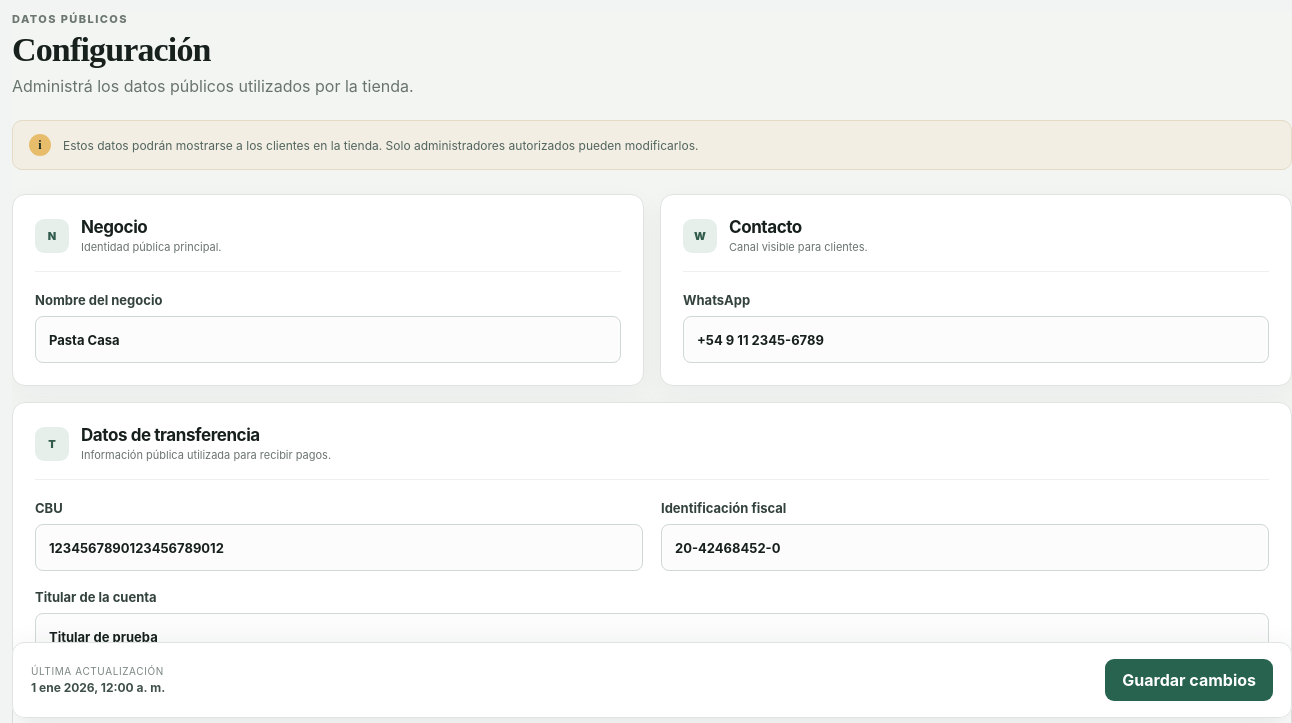
ConfigPage › muestra éxito y la nueva fecha después de una actualización válida
Replace the text in the field labelled "Nombre del negocio" with "Pasta Casa Nueva" at (328, 340), box [35,316,621,363]
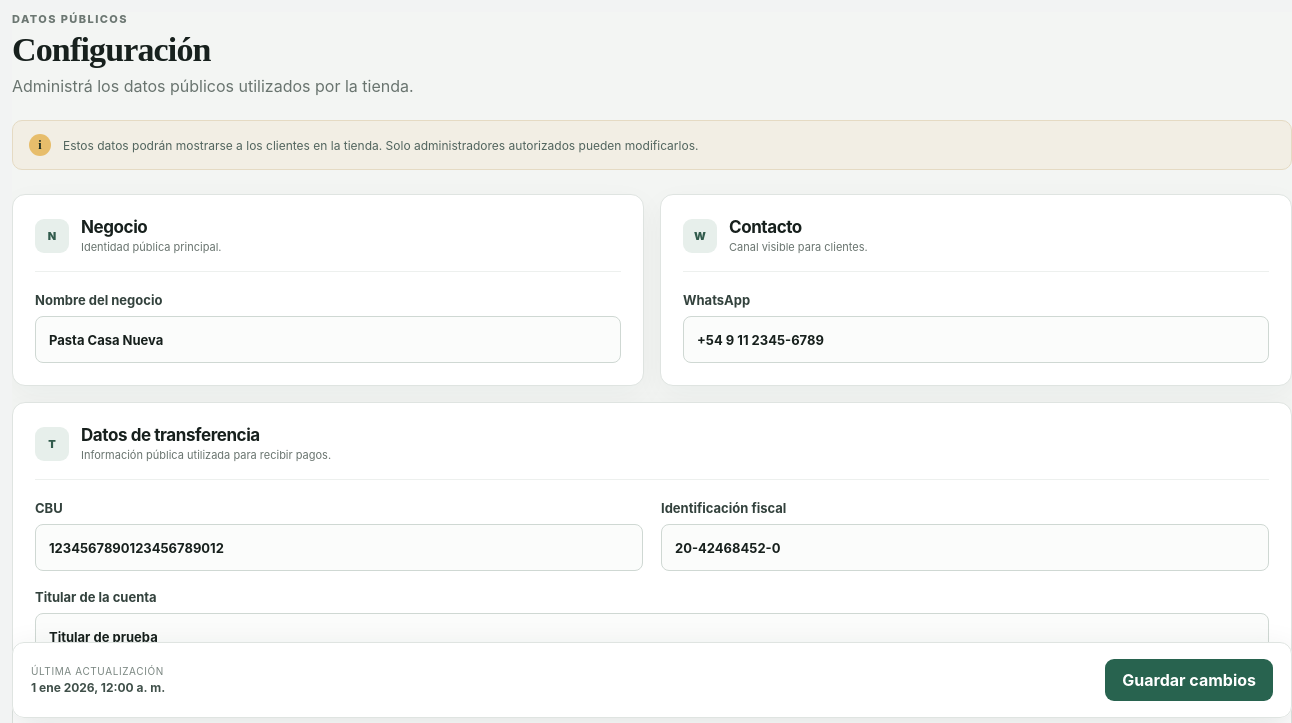
Click the button "Guardar cambios" at (1189, 680), box [1105,659,1273,701]
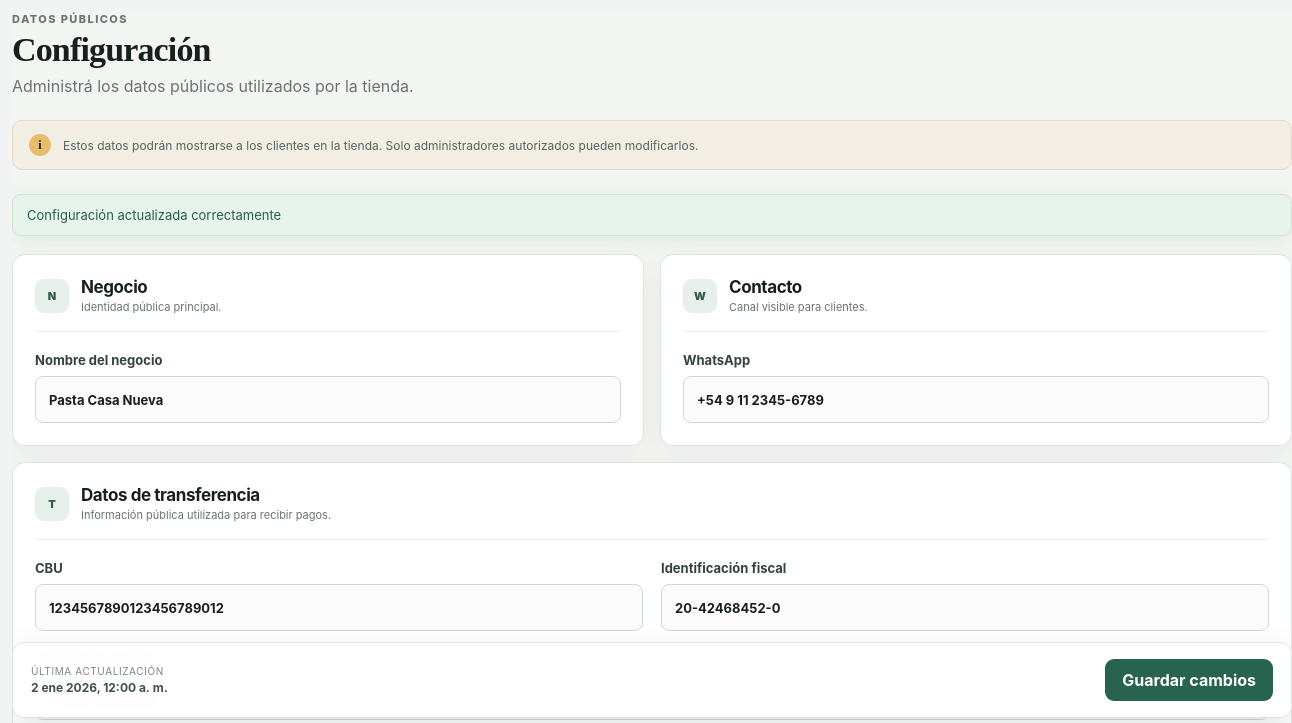
Result: the text "Configuración actualizada correctamente" is shown at [12,194,1291,236]
